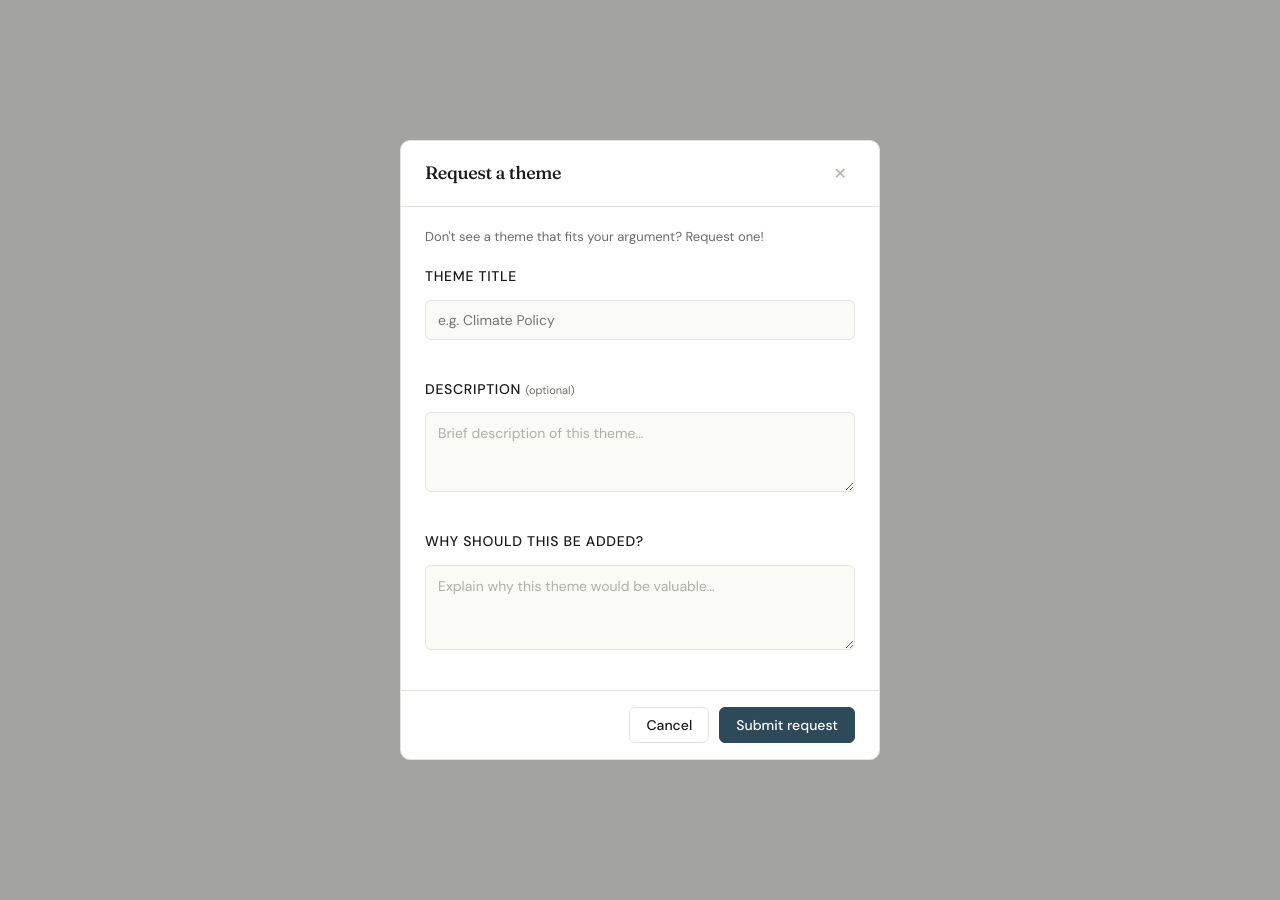
Test: ThemeRequestForm › shows validation error when title is empty
Click the button "Submit request".
click(787, 725)  # box x1=719 y1=707 x2=855 y2=743
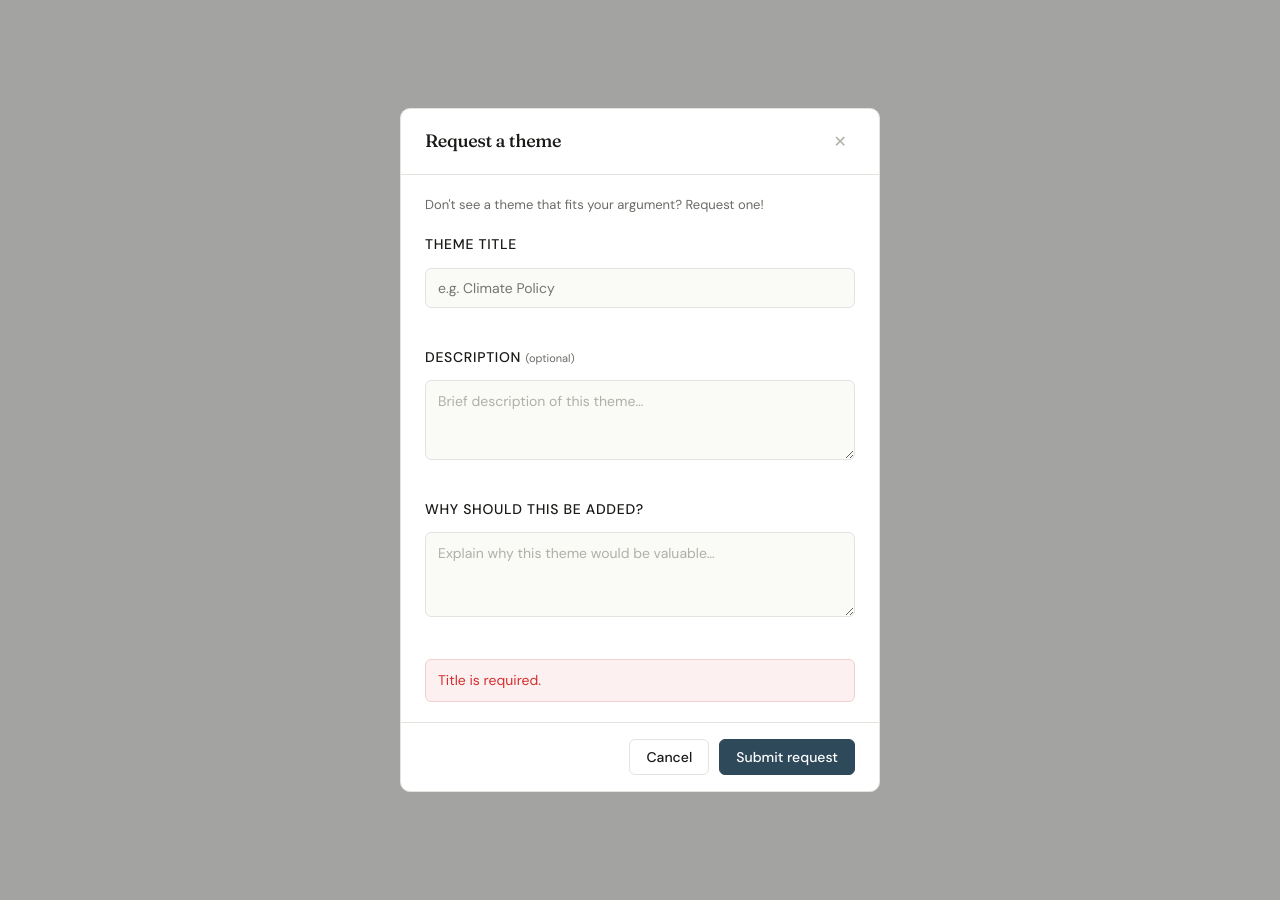
Expected: the text "Title is required." is shown, x1=425 y1=660 x2=855 y2=702
